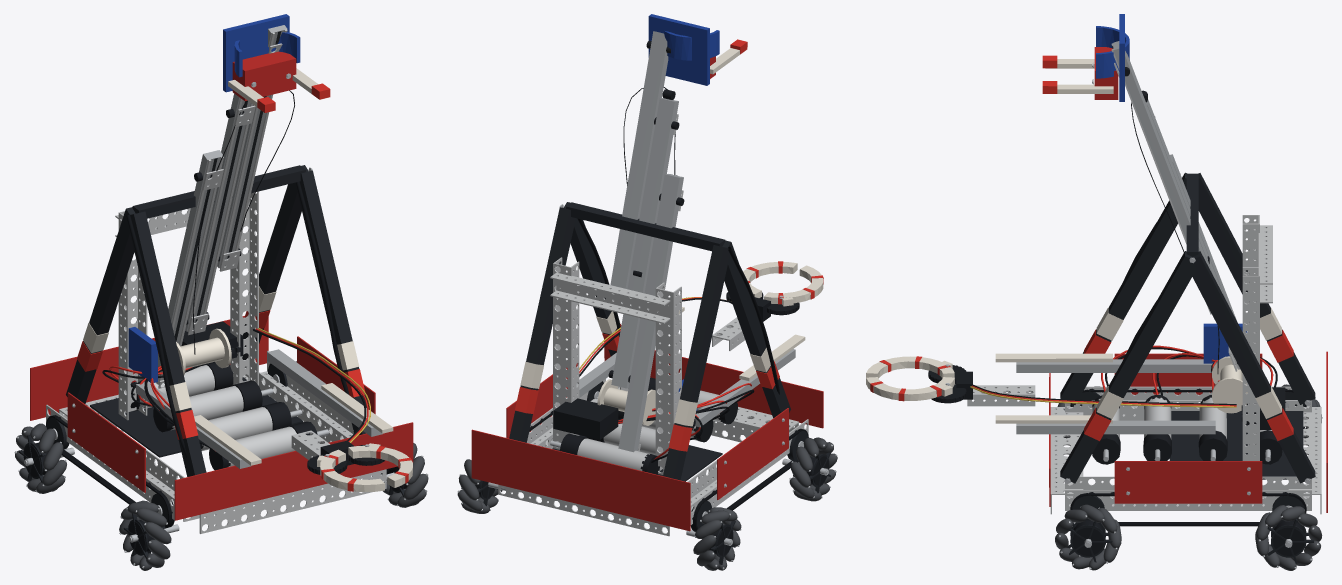
Rendered from room.glb.
3 views of the same model, side by side, from view 1: azimuth 30°, elevation 25°; view 2: azimuth 150°, elevation 25°; view 3: azimuth 270°, elevation 25° (orthographic). The views are drawn at different scales.
Visible parts, largest first — view 1: FTC source robot — room overview; view 2: FTC source robot — room overview; view 3: FTC source robot — room overview.
Part boxes in pixels (<box>): FTC source robot — room overview: <box>14,14,428,570</box>; FTC source robot — room overview: <box>457,14,837,570</box>; FTC source robot — room overview: <box>866,14,1327,570</box>.
Size of the model in its own units: 1.69 by 2.8 by 2.44.
